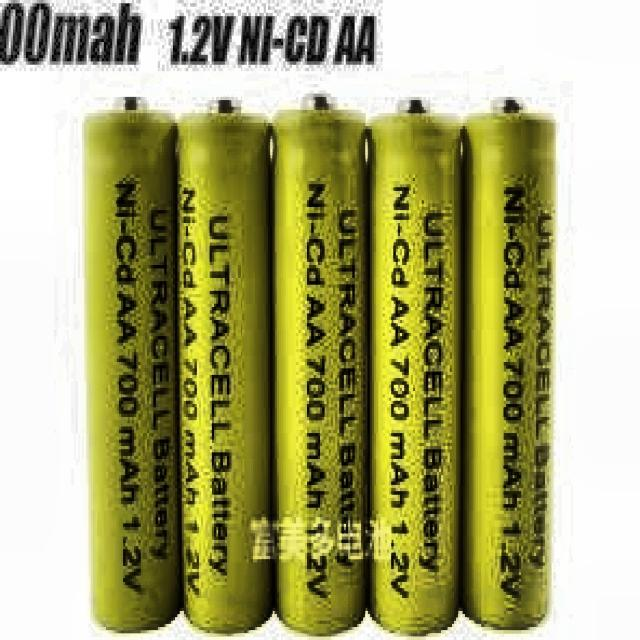Non-Valuable Waste - Batteries: (177, 101, 272, 631), (85, 101, 180, 630), (272, 99, 366, 633), (462, 101, 555, 627), (370, 101, 460, 633)
